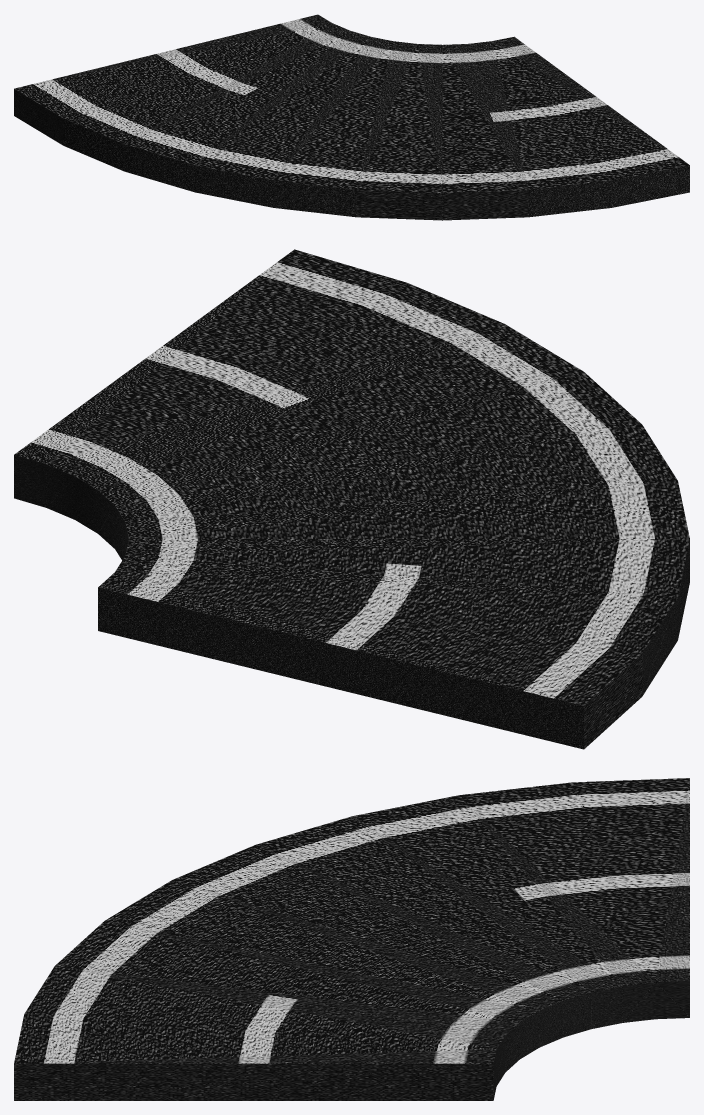
The model's file is road_curve90.FBX.
The picture shows the model from 3 angles, top to bottom: view 1: azimuth 30°, elevation 25°; view 2: azimuth 150°, elevation 25°; view 3: azimuth 270°, elevation 25°; orthographic projection. The views are drawn at different scales.
Visible parts, largest first — view 1: Box021; view 2: Box021; view 3: Box021.
Boxes of the visible parts, <box> form: Box021: <box>14,14,689,220</box>; Box021: <box>14,249,689,749</box>; Box021: <box>14,778,689,1100</box>.
Size of the model in its own units: 243 by 243 by 14.8.
Materials: 2 (2 with a texture image).
